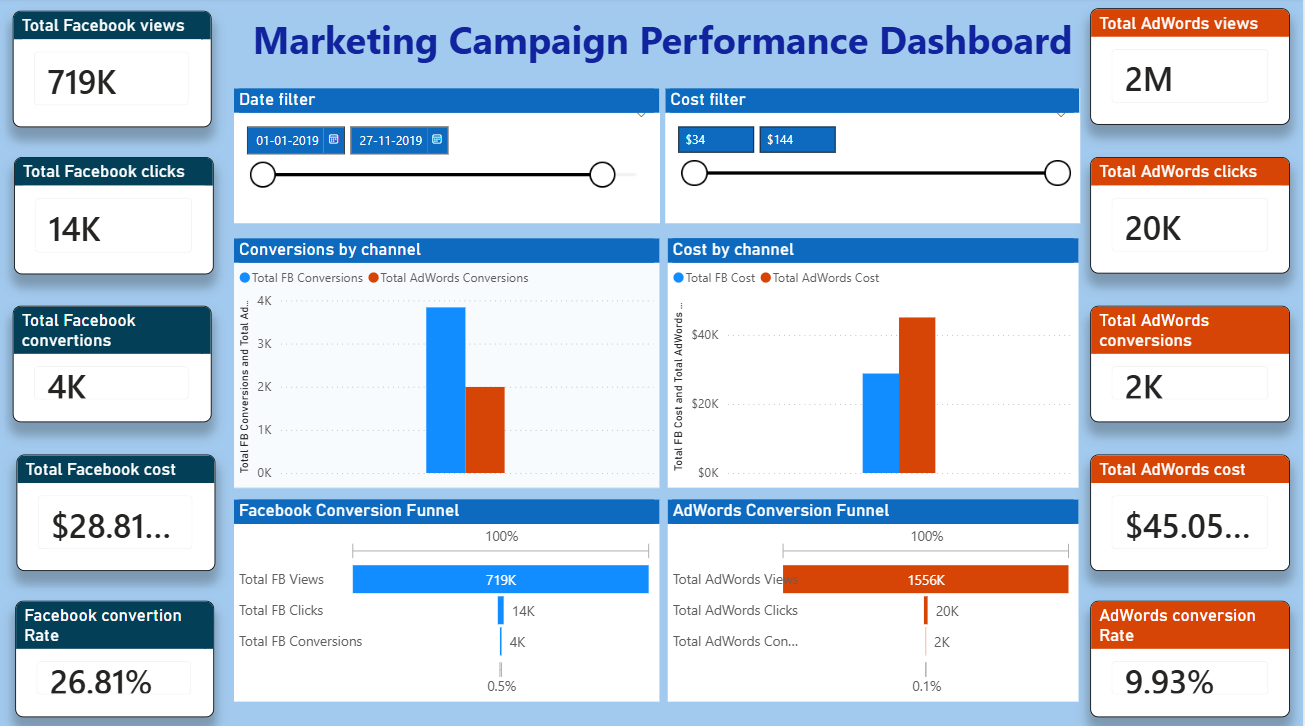

The page's visual inventory and layout, read from the dashboard file:
{"tool":"powerbi","page":{"name":"Page 1","canvas":[1280,720],"ordinal":0},"visuals":[{"type":"cardVisual","title":"Total Facebook views","fields":{"Data":["Dataset.Total FB Views"]},"box":[13.7,13.7,195,114.2],"z":0},{"type":"cardVisual","title":"Total Facebook convertions","fields":{"Data":["Dataset.Total FB Conversions"]},"box":[13.7,303,195,114.2],"z":1000},{"type":"cardVisual","title":"Total Facebook clicks","fields":{"Data":["Dataset.Total FB Clicks"]},"box":[14.9,156.5,196.2,115.5],"z":2000},{"type":"cardVisual","title":"Total AdWords views","fields":{"Data":["Dataset.Total AdWords Views"]},"box":[1071.6,11.2,196.2,114.2],"z":3000},{"type":"cardVisual","title":"Total AdWords conversions","fields":{"Data":["Dataset.Total AdWords Conversions"]},"box":[1071.6,303,196.2,114.2],"z":4000},{"type":"cardVisual","title":"Total AdWords clicks","fields":{"Data":["Dataset.Total AdWords Clicks"]},"box":[1071.6,156.5,196.2,114.2],"z":5000},{"type":"cardVisual","title":"Facebook convertion Rate","fields":{"Data":["Dataset.FB Conversion Rate"]},"box":[16.1,592.3,195,114.2],"z":6000},{"type":"cardVisual","title":"Total Facebook cost","fields":{"Data":["Dataset.Total FB Cost"]},"box":[17.4,449.5,195,114.2],"z":7000},{"type":"cardVisual","title":" AdWords conversion Rate","fields":{"Data":["Dataset.AdWords Conversion Rate"]},"box":[1071.6,592.3,196.2,114.2],"z":8000},{"type":"cardVisual","title":"Total AdWords cost","fields":{"Data":["Dataset.Total AdWords Cost"]},"box":[1071.6,449.5,196.2,114.2],"z":9000},{"type":"textbox","box":[244.6,11.2,992.2,78.2],"z":10000},{"type":"clusteredColumnChart","title":"Conversions by channel","fields":{"Y":["Dataset.Total FB Conversions","Dataset.Total AdWords Conversions"]},"box":[231,237.2,417.2,244.6],"z":11000},{"type":"clusteredColumnChart","title":"Cost by channel","fields":{"Y":["Dataset.Total FB Cost","Dataset.Total AdWords Cost"]},"box":[656.9,237.2,403.6,244.6],"z":12000},{"type":"slicer","title":"Date filter","fields":{"Values":["Dataset.Date"]},"box":[231,89.4,417.2,131.6],"z":13000},{"type":"funnel","title":"Facebook Conversion Funnel","fields":{"Y":["Dataset.Total FB Views","Dataset.Total FB Clicks","Dataset.Total FB Conversions"]},"box":[231,493,417.2,198.7],"z":14000},{"type":"funnel","title":"AdWords Conversion Funnel","fields":{"Y":["Dataset.Total AdWords Views","Dataset.Total AdWords Clicks","Dataset.Total AdWords Conversions"]},"box":[656.9,493,403.6,198.7],"z":15000},{"type":"slicer","title":"Cost filter","fields":{"Values":["Dataset.Cost per Facebook Ad"]},"box":[654.4,89.4,406.1,131.6],"z":16000}]}

Visuals, with their boxes in screenshot pixels (x1, y1, x2, y2), scaled from the page's 1280x720 canvas onto the 1305x726 screenshot:
"Total Facebook views" cardVisual: (left=14, top=14, right=213, bottom=129)
"Total Facebook convertions" cardVisual: (left=14, top=306, right=213, bottom=421)
"Total Facebook clicks" cardVisual: (left=15, top=158, right=215, bottom=274)
"Total AdWords views" cardVisual: (left=1093, top=11, right=1293, bottom=126)
"Total AdWords conversions" cardVisual: (left=1093, top=306, right=1293, bottom=421)
"Total AdWords clicks" cardVisual: (left=1093, top=158, right=1293, bottom=273)
"Facebook convertion Rate" cardVisual: (left=16, top=597, right=215, bottom=712)
"Total Facebook cost" cardVisual: (left=18, top=453, right=217, bottom=568)
" AdWords conversion Rate" cardVisual: (left=1093, top=597, right=1293, bottom=712)
"Total AdWords cost" cardVisual: (left=1093, top=453, right=1293, bottom=568)
textbox: (left=249, top=11, right=1261, bottom=90)
"Conversions by channel" clusteredColumnChart: (left=236, top=239, right=661, bottom=486)
"Cost by channel" clusteredColumnChart: (left=670, top=239, right=1081, bottom=486)
"Date filter" slicer: (left=236, top=90, right=661, bottom=223)
"Facebook Conversion Funnel" funnel: (left=236, top=497, right=661, bottom=697)
"AdWords Conversion Funnel" funnel: (left=670, top=497, right=1081, bottom=697)
"Cost filter" slicer: (left=667, top=90, right=1081, bottom=223)
